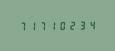four: (87, 19, 96, 30)
one: (27, 20, 36, 31), (47, 20, 56, 31)
seven: (17, 20, 26, 31), (37, 20, 46, 31)
three: (77, 19, 86, 30)
two: (67, 19, 76, 30)
zero: (57, 20, 66, 30)
